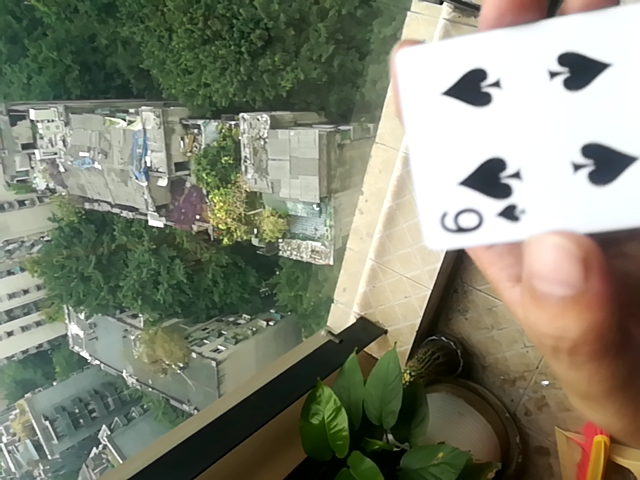ht 6: (390, 2, 640, 256)
